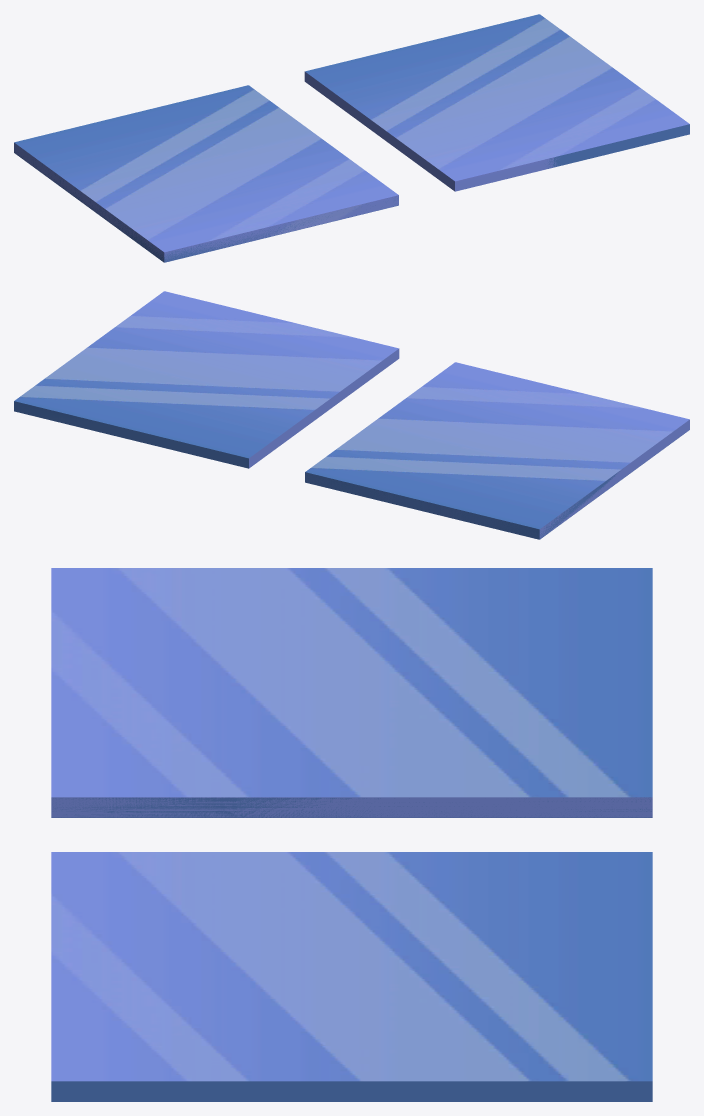
File: Glass 2.fbx
3 views of the same model, one above another, from view 1: azimuth 30°, elevation 25°; view 2: azimuth 150°, elevation 25°; view 3: azimuth 270°, elevation 25° (orthographic). The views are drawn at different scales.
Visible parts, largest first — view 1: Glass01, Glass02, polySurface29, polySurface19, polySurface22; view 2: Glass01, Glass02, polySurface40, polySurface15, polySurface11, polySurface9, polySurface13; view 3: Glass01, Glass02, polySurface24, polySurface2, polySurface28, polySurface26, polySurface4, polySurface29.
Part boxes in pixels (x1,y1,x2,y2): Glass01: (14, 85, 398, 261); Glass02: (304, 14, 689, 191); polySurface29: (576, 118, 689, 161); polySurface19: (117, 219, 215, 262); polySurface22: (215, 216, 341, 250); Glass01: (305, 362, 689, 539); Glass02: (14, 291, 399, 468); polySurface40: (71, 416, 221, 461); polySurface15: (500, 480, 607, 539); polySurface11: (369, 488, 440, 515); polySurface9: (305, 472, 369, 498); polySurface13: (441, 505, 500, 530); Glass01: (51, 568, 652, 817); Glass02: (51, 852, 652, 1080); polySurface24: (89, 1081, 438, 1101); polySurface2: (51, 797, 237, 817); polySurface28: (524, 1081, 652, 1101); polySurface26: (438, 1081, 524, 1101); polySurface4: (237, 797, 425, 817); polySurface29: (51, 1081, 88, 1101).
Bounding box in the file's own units: 569 × 10.83 × 282.
